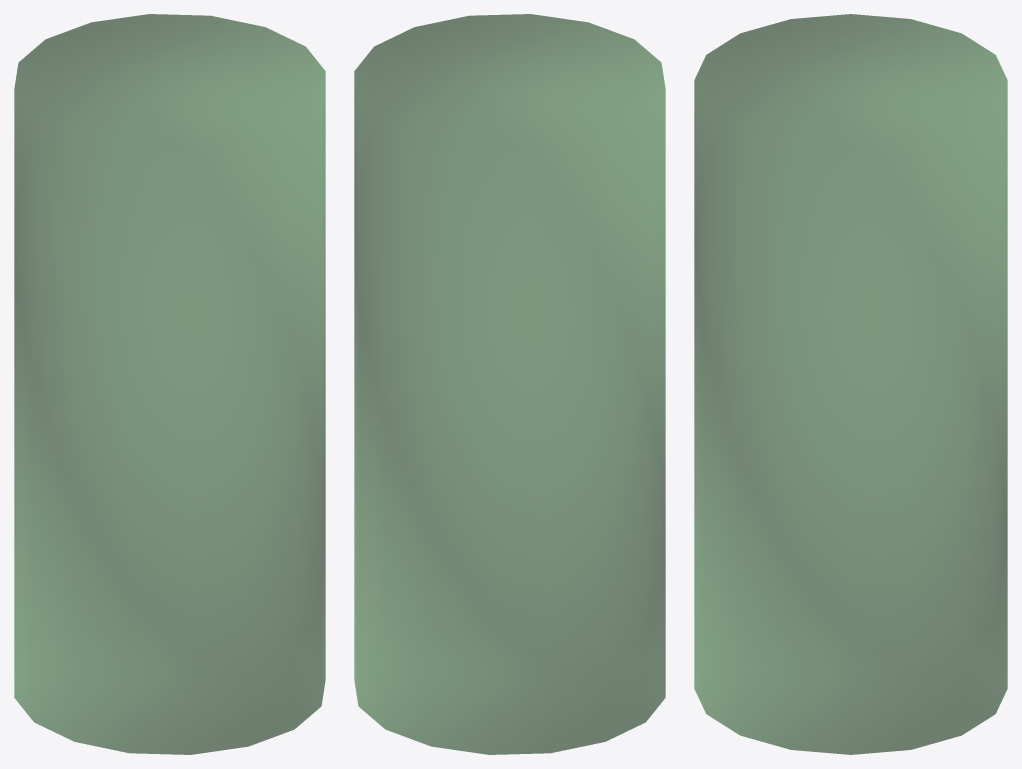
File: broken_bottle.glb
3 renders of one model, left to right at view 1: azimuth 30°, elevation 25°; view 2: azimuth 150°, elevation 25°; view 3: azimuth 270°, elevation 25°, orthographic.
Parts seen in each view (by area): view 1: broken_bottle; view 2: broken_bottle; view 3: broken_bottle.
Part boxes in pixels (bbox=[...]): broken_bottle: bbox=[14, 14, 325, 754]; broken_bottle: bbox=[354, 14, 665, 754]; broken_bottle: bbox=[694, 14, 1007, 754].
Bounding box in the file's own units: 0.07 × 0.15 × 0.07.
